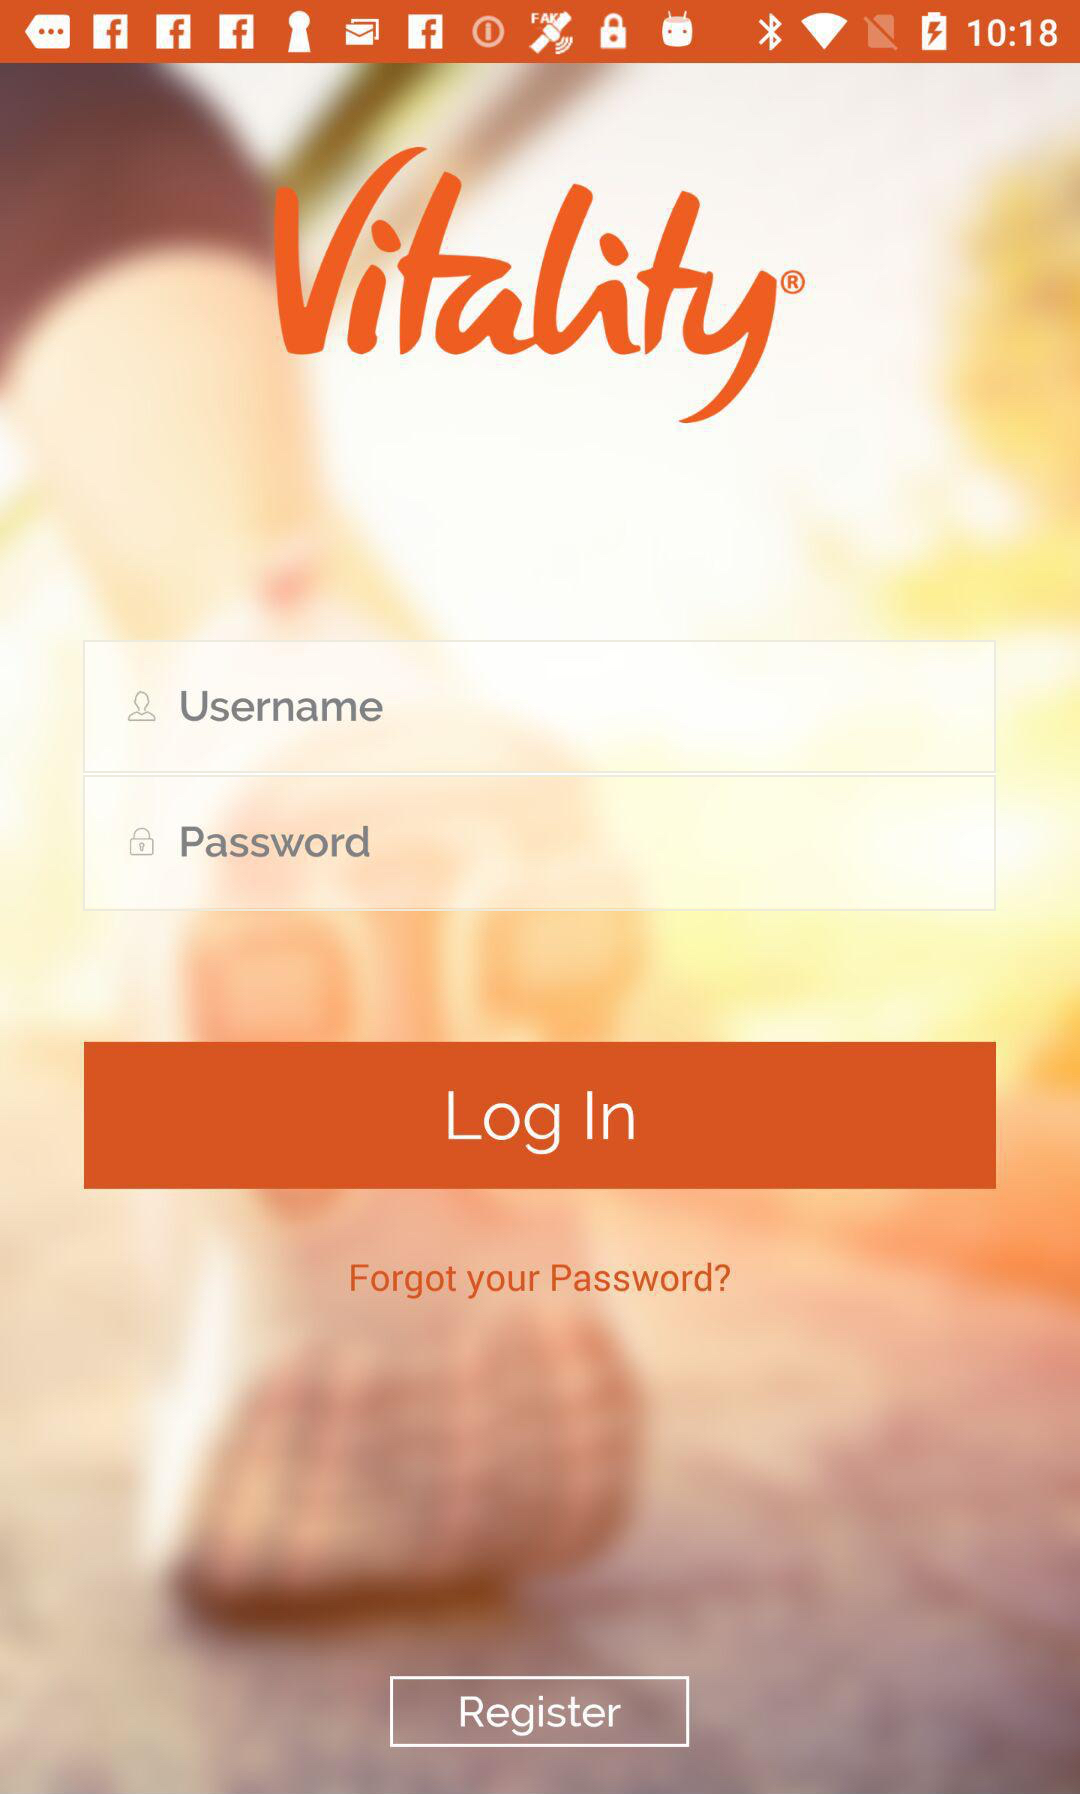BackgroundImage: (1, 64, 1079, 1794)
EditText: (85, 775, 997, 912), (85, 639, 997, 774)
Icon: (128, 691, 158, 721), (129, 828, 155, 857)
Image: (274, 147, 806, 425)
Text: (350, 1261, 732, 1301), (179, 689, 384, 724), (181, 827, 372, 859)
TextButton: (85, 1042, 997, 1190), (389, 1675, 691, 1748)
UpperTaskBar: (1, 1, 1080, 64)
